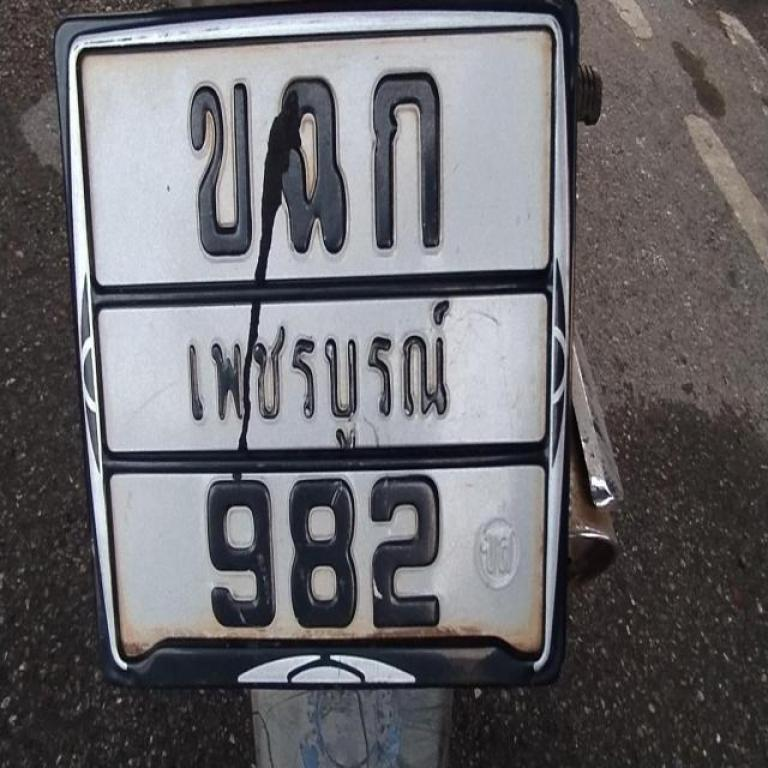license plate: (59, 0, 582, 689)
